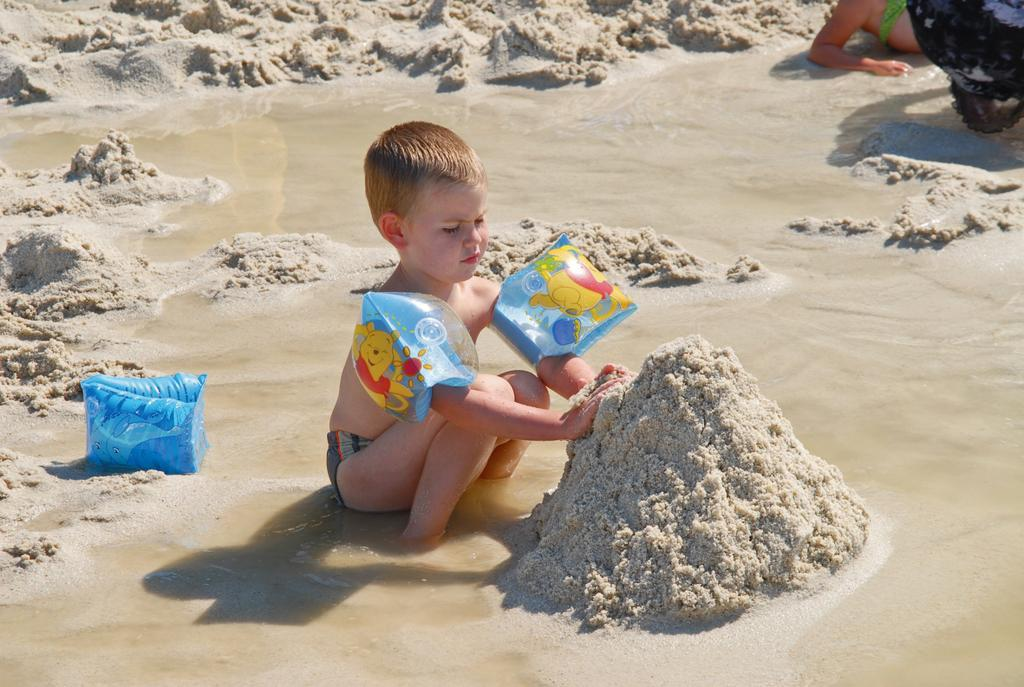face: (406, 170, 492, 284)
